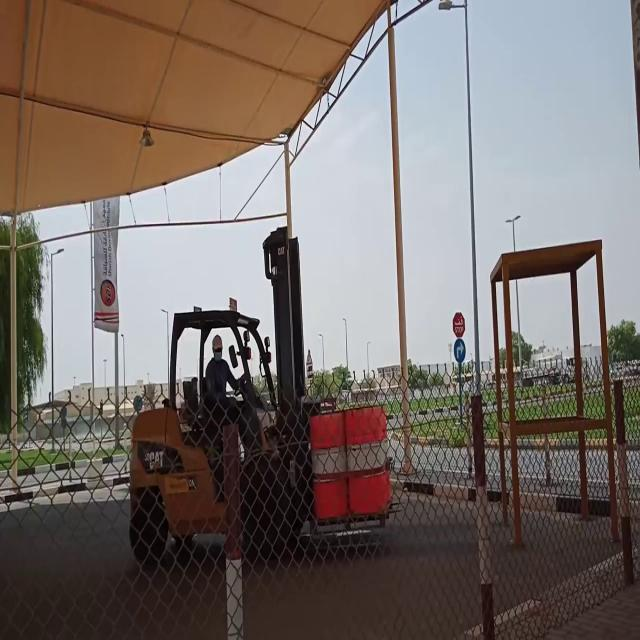Chariot elevateur: (110, 294, 324, 585)
